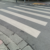zebra: (1, 5, 50, 38)
